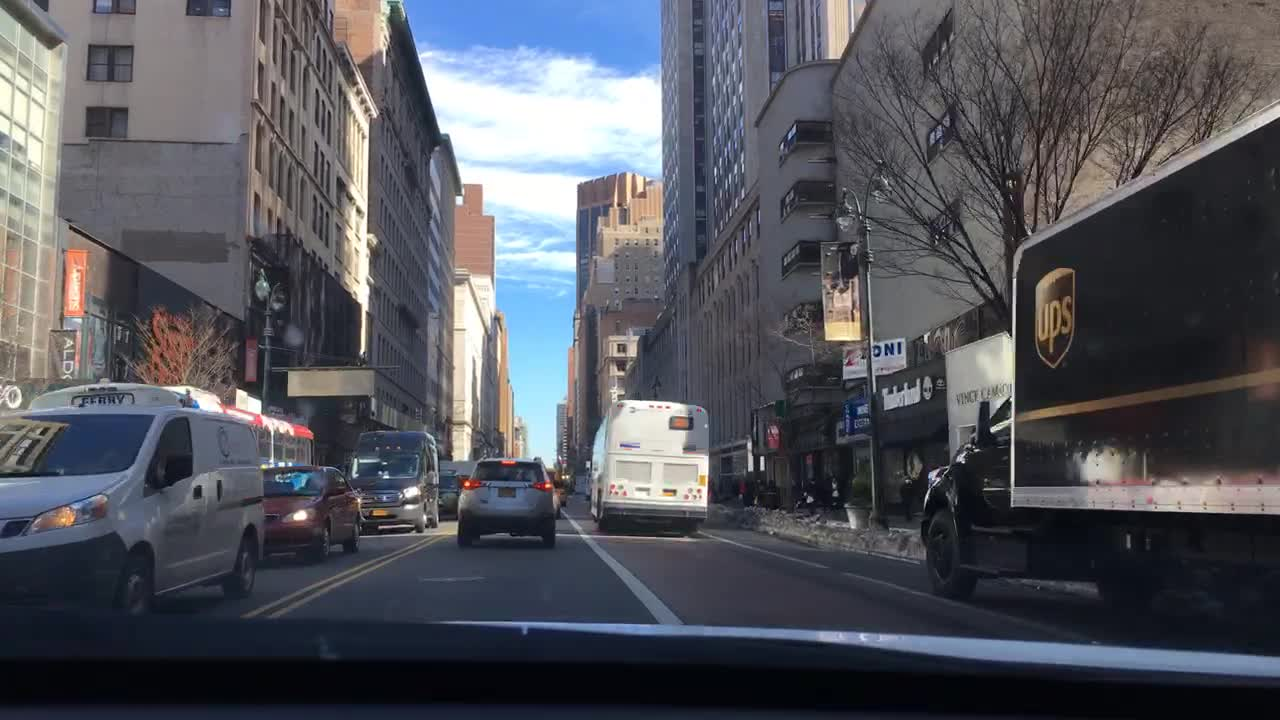bus: (586, 399, 708, 531), (157, 386, 316, 466)
car: (0, 378, 264, 611), (263, 465, 361, 561), (452, 456, 556, 542), (546, 469, 566, 506)
person: (898, 471, 915, 522), (824, 475, 842, 512), (802, 476, 817, 512), (746, 477, 758, 511), (764, 480, 779, 507), (789, 479, 801, 511), (739, 475, 747, 499), (757, 480, 764, 506)
truck: (920, 99, 1279, 630), (346, 430, 436, 530), (435, 459, 476, 514)
